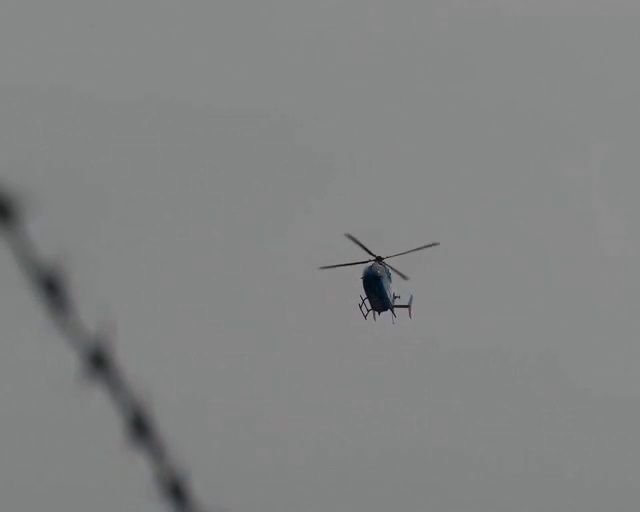HELICOPTER: (317, 231, 441, 323)
